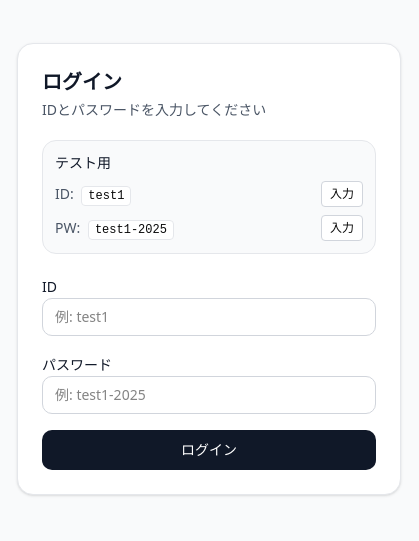
Test case: LoginPageClient (component) › signIn後に outcome が error の場合、エラー表示され遷移しない（DOM変化）
Type "test1" into the field with placeholder "例: test1" at (209, 317), box left=42, top=298, right=376, bottom=336
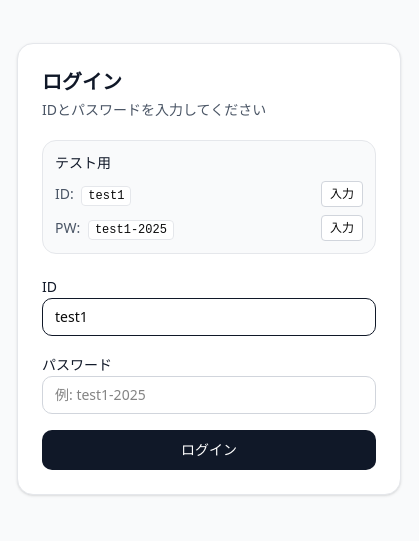
Type "test1-2025" into the password field with placeholder "例: test1-2025" at (209, 395), box left=42, top=376, right=376, bottom=414
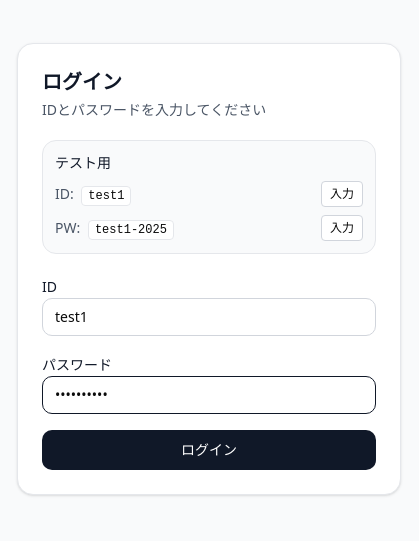
Click the button "ログイン" at (209, 450), box left=42, top=430, right=376, bottom=470
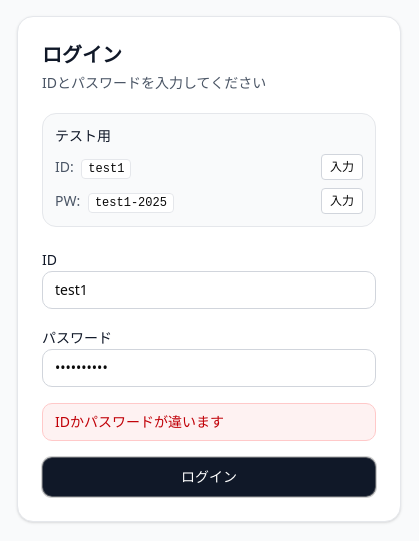
Expected: the text "IDかパスワードが違います" is shown, left=42, top=403, right=376, bottom=441
